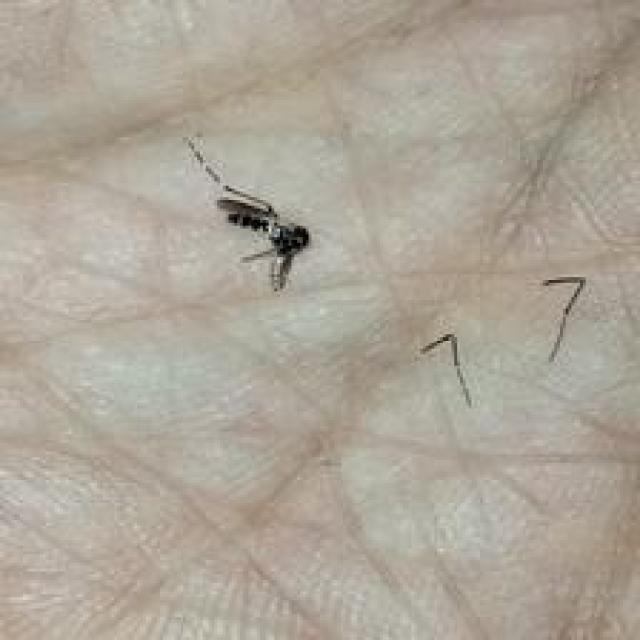Aedes albopictus: (183, 130, 311, 293)
